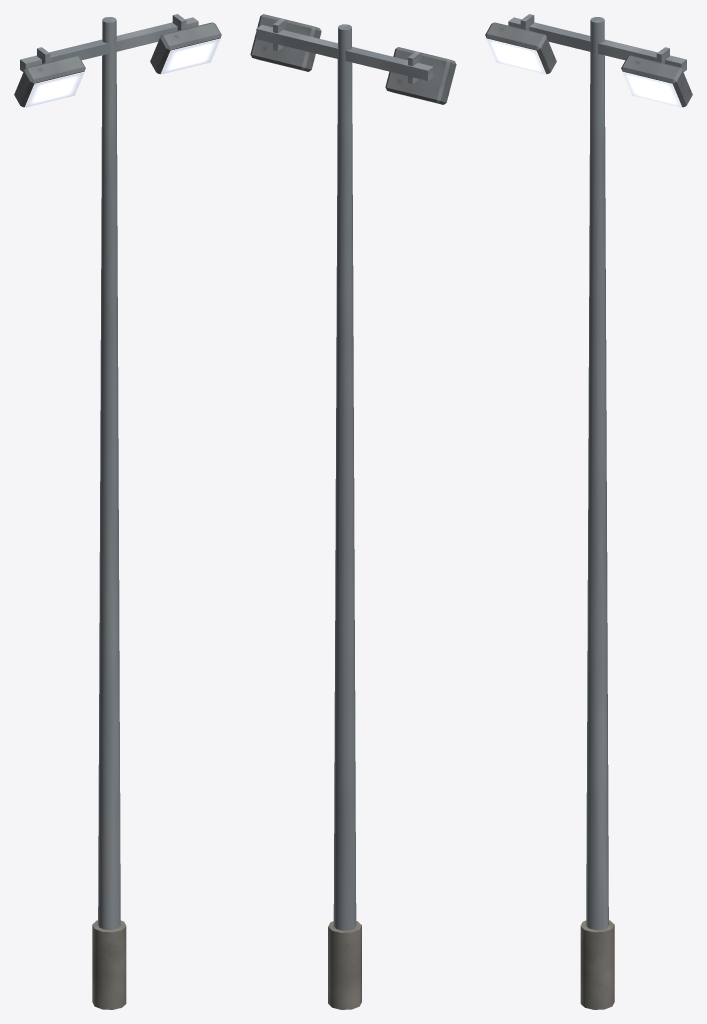
Rendered from floodlight_pole.fbx.
3 views of the same model, side by side, from view 1: azimuth 30°, elevation 25°; view 2: azimuth 150°, elevation 25°; view 3: azimuth 330°, elevation 25° (orthographic).
Parts seen in each view (by area): view 1: floodlight_pole, floodlight_pole_arm, floodlight_pole_lens; view 2: floodlight_pole, floodlight_pole_arm; view 3: floodlight_pole, floodlight_pole_arm, floodlight_pole_lens.
Boxes of the visible parts, <box> form: floodlight_pole: <box>92,17,126,1009</box>; floodlight_pole_arm: <box>14,14,221,107</box>; floodlight_pole_lens: <box>24,38,220,107</box>; floodlight_pole: <box>328,24,361,1009</box>; floodlight_pole_arm: <box>250,14,456,104</box>; floodlight_pole: <box>580,17,614,1009</box>; floodlight_pole_arm: <box>485,14,692,107</box>; floodlight_pole_lens: <box>486,38,682,107</box>.
Bounding box in the file's own units: 1.55 × 7.6 × 0.3693.
Materials: 1 (1 with a texture image).
